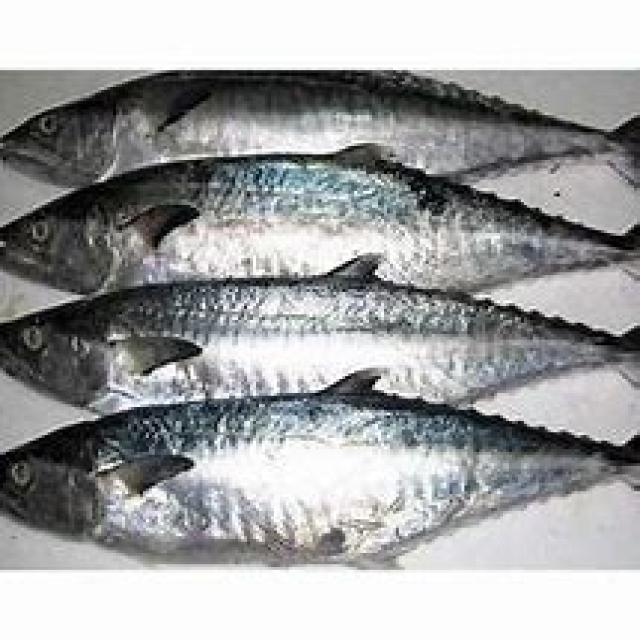seer: (0, 367, 637, 570)
